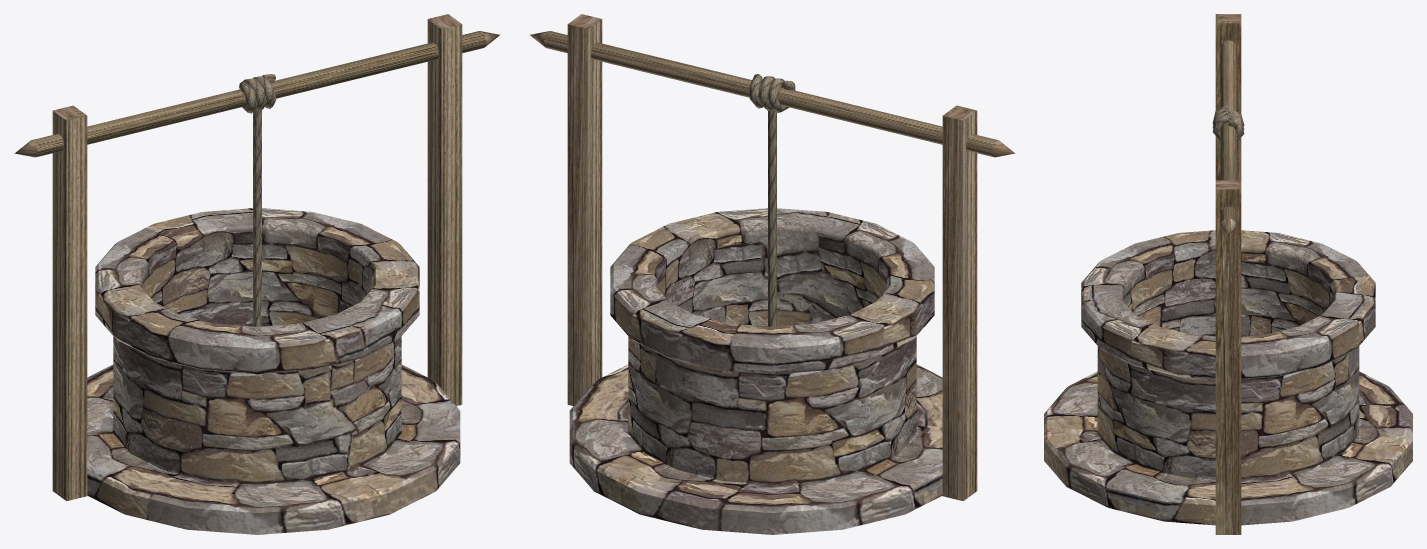
The model's file is well.FBX.
3 views of the same model, side by side, from view 1: azimuth 30°, elevation 25°; view 2: azimuth 150°, elevation 25°; view 3: azimuth 270°, elevation 25° (orthographic). The views are drawn at different scales.
Visible parts, largest first — view 1: Well; view 2: Well; view 3: Well.
Boxes of the visible parts, box(x1,y1,x2,y2) form: Well: box(14, 14, 499, 534); Well: box(530, 14, 1015, 534); Well: box(1044, 14, 1412, 534).
Bounding box in the file's own units: 3111 × 2250 × 2327.
1 material, 1 textured.
